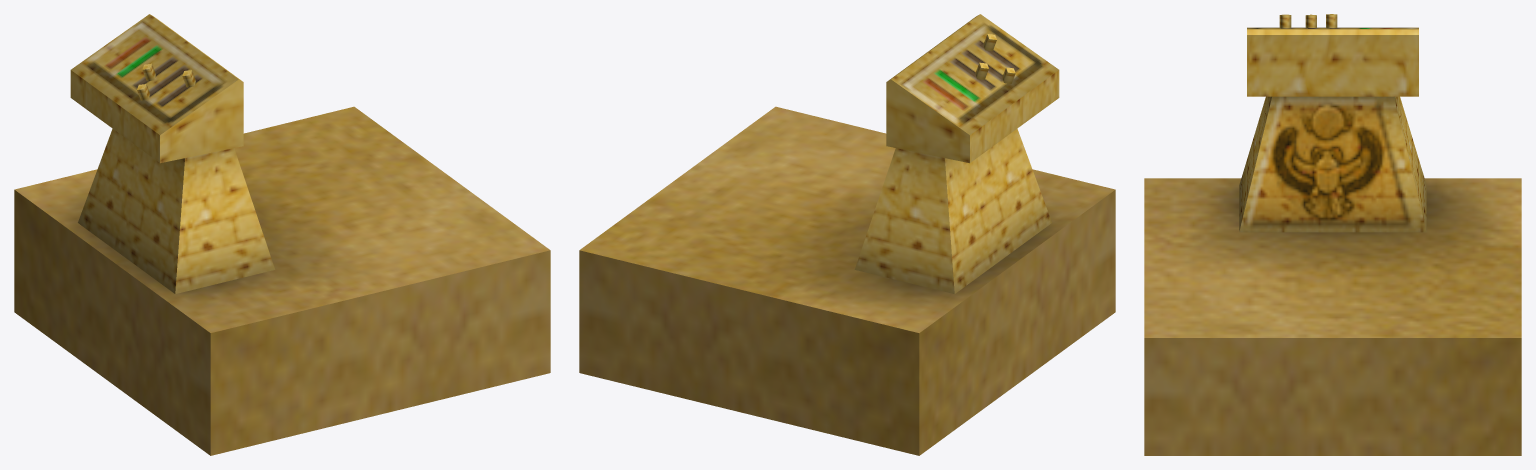
Rendered from egy_console_w.obj.
3 renders of one model, left to right at view 1: azimuth 30°, elevation 25°; view 2: azimuth 150°, elevation 25°; view 3: azimuth 270°, elevation 25°, orthographic. The views are drawn at different scales.
Visible parts, largest first — view 1: tile_console; view 2: tile_console; view 3: tile_console.
Part boxes in pixels (x1,y1,x2,y2): tile_console: (14,14,550,455); tile_console: (579,14,1115,455); tile_console: (1144,14,1521,455).
Size of the model in its own units: 1 by 0.8959 by 1.
